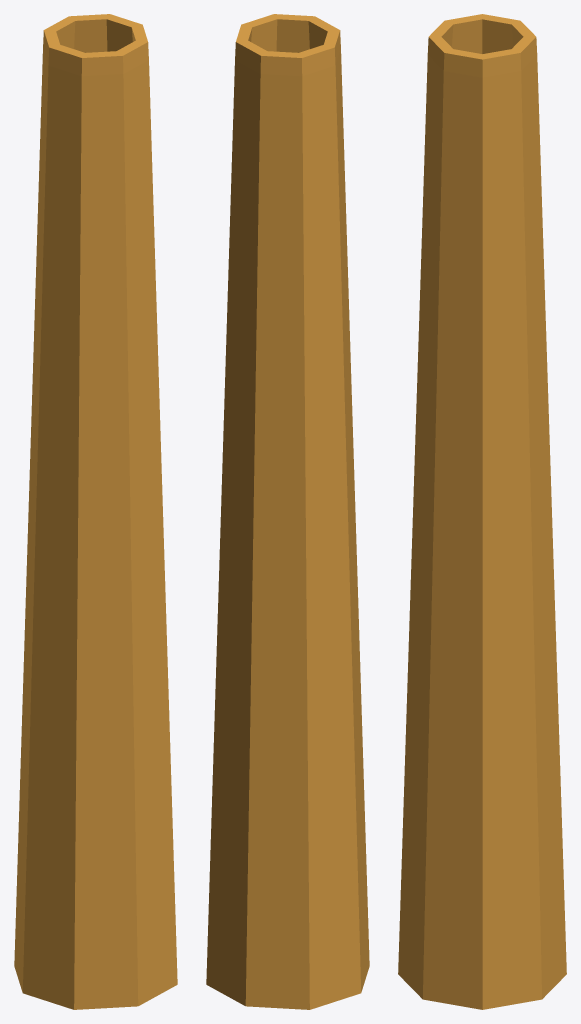
Rendered from chimney-big.glb.
3 views of the same model, side by side, from view 1: azimuth 30°, elevation 25°; view 2: azimuth 150°, elevation 25°; view 3: azimuth 270°, elevation 25° (orthographic).
Parts seen in each view (by area): view 1: chimney-big; view 2: chimney-big; view 3: chimney-big.
Boxes of the visible parts, box(x1,y1,x2,y2) form: chimney-big: box(14, 14, 177, 1009); chimney-big: box(206, 14, 369, 1009); chimney-big: box(398, 14, 566, 1009).
Size of the model in its own units: 3 by 18.39 by 3.
